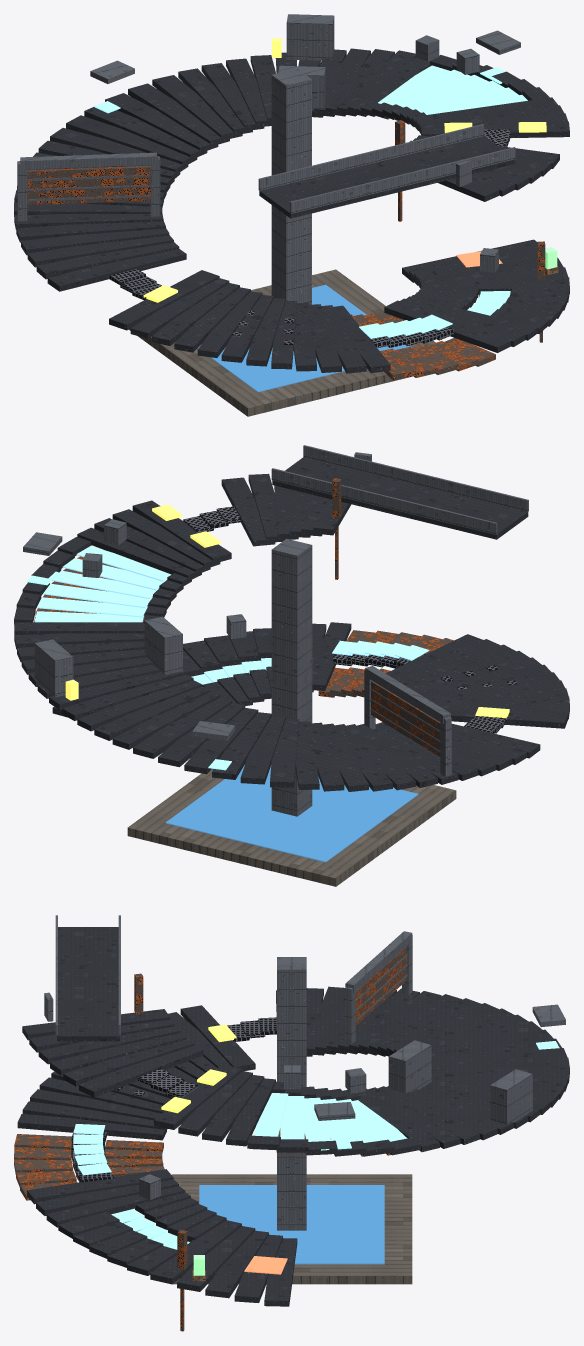
The model's file is channels.glb.
The picture shows the model from 3 angles, top to bottom: view 1: azimuth 30°, elevation 25°; view 2: azimuth 150°, elevation 25°; view 3: azimuth 270°, elevation 25°; orthographic projection.
Parts seen in each view (by area): view 1: Downpipe, WellFloor, Overlook, S4_sluice_gate, OvRail_-17, OvRail_17, Pool, S6_lure_wall33, S3_plate_far_0, S5_patrol_deck_1, S4_sluice_header, S5_patrol_deck_4 (+66 smaller); view 2: Pool, WellFloor, Downpipe, Overlook, OvRail_17, OvRail_-17, S4_sluice_gate, S6_lure_wall-33, S6_lure_wall33, S5_patrol_deck_5, Conn_16_0, Conn_14_2 (+61 smaller); view 3: Pool, WellFloor, Overlook, Downpipe, S6_lure_wall33, S8_double_plate_far_0, S6_lure_wall-33, Conn_4_0, Conn_0_2, Conn_2_2, Conn_0_4, Conn_18_0 (+70 smaller).
Part boxes in pixels (bbox=[...]): Downpipe: bbox=[271, 68, 311, 304]; WellFloor: bbox=[129, 269, 435, 416]; Overlook: bbox=[259, 136, 515, 218]; S4_sluice_gate: bbox=[27, 165, 150, 205]; OvRail_-17: bbox=[258, 124, 484, 190]; OvRail_17: bbox=[290, 147, 515, 213]; Pool: bbox=[198, 284, 411, 392]; S6_lure_wall33: bbox=[286, 14, 334, 60]; S3_plate_far_0: bbox=[47, 249, 186, 291]; S5_patrol_deck_1: bbox=[66, 115, 197, 165]; S4_sluice_header: bbox=[20, 152, 157, 169]; S5_patrol_deck_4: bbox=[128, 83, 229, 145]; Pool: bbox=[165, 765, 418, 862]; WellFloor: bbox=[127, 768, 456, 886]; Downpipe: bbox=[271, 538, 312, 816]; Overlook: bbox=[272, 457, 528, 539]; OvRail_17: bbox=[303, 445, 528, 511]; OvRail_-17: bbox=[271, 468, 497, 534]; S4_sluice_gate: bbox=[371, 681, 440, 756]; S6_lure_wall-33: bbox=[144, 616, 182, 674]; S6_lure_wall33: bbox=[34, 639, 73, 697]; S5_patrol_deck_5: bbox=[133, 697, 232, 758]; Conn_16_0: bbox=[77, 527, 201, 579]; Conn_14_2: bbox=[14, 622, 144, 635]; Pool: bbox=[199, 1185, 384, 1264]; WellFloor: bbox=[171, 1174, 412, 1284]; Overlook: bbox=[57, 927, 119, 1041]; Downpipe: bbox=[277, 957, 306, 1230]; S6_lure_wall33: bbox=[490, 1069, 532, 1124]; S8_double_plate_far_0: bbox=[79, 1045, 203, 1097]; S6_lure_wall-33: bbox=[388, 1040, 431, 1093]; Conn_4_0: bbox=[17, 1114, 166, 1140]; Conn_0_2: bbox=[205, 1230, 268, 1298]; Conn_2_2: bbox=[27, 1169, 173, 1204]; Conn_0_4: bbox=[150, 1220, 241, 1284]; Conn_18_0: bbox=[63, 1039, 194, 1086].
Bounding box in the file's own units: 30.12 × 17.4 × 30.02.
14 materials, 8 textured.
